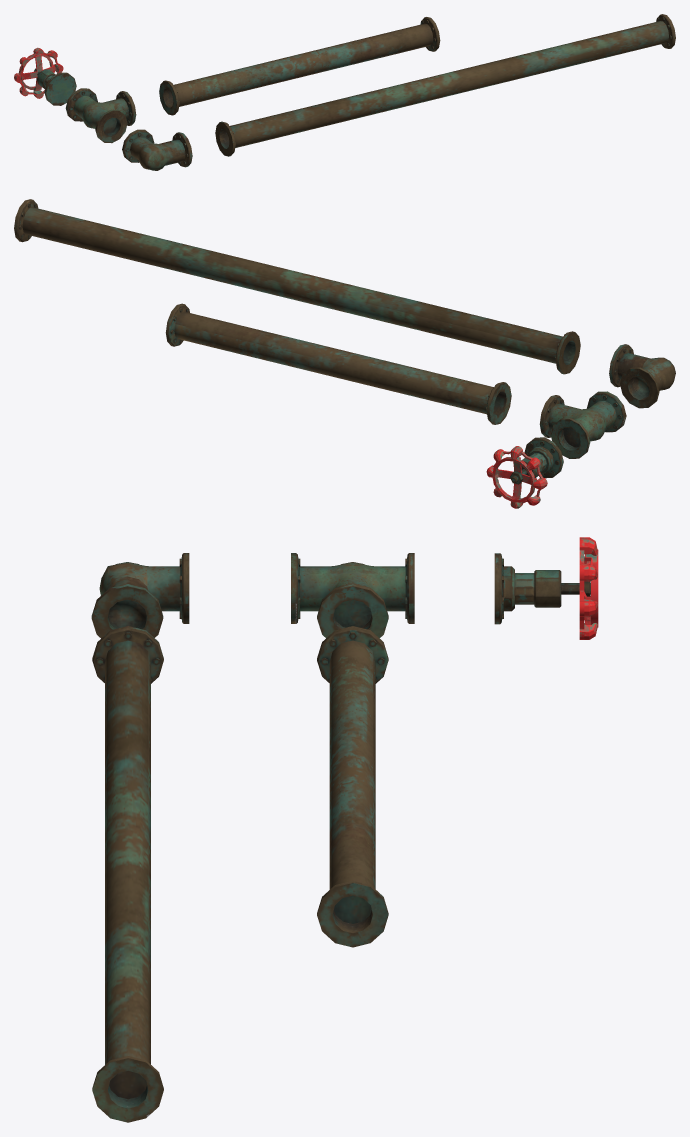
File: SM_pipe.fbx
The picture shows the model from 3 angles, top to bottom: view 1: azimuth 30°, elevation 25°; view 2: azimuth 150°, elevation 25°; view 3: azimuth 270°, elevation 25°; orthographic projection. The views are drawn at different scales.
Parts seen in each view (by area): view 1: SM_pipe_d, SM_pipe_b, SM_pipe_a, SM_pipe_c, SM_pipe_valve_a, SM_pipe_valve_b, SM_pipe_valve_c; view 2: SM_pipe_d, SM_pipe_b, SM_pipe_a, SM_pipe_c, SM_pipe_valve_a, SM_pipe_valve_c, SM_pipe_valve_b; view 3: SM_pipe_d, SM_pipe_b, SM_pipe_a, SM_pipe_c, SM_pipe_valve_a, SM_pipe_valve_b.
Boxes of the visible parts, x1,y1,x2,y2 form: SM_pipe_d: (215,14,675,156); SM_pipe_b: (159,17,440,115); SM_pipe_a: (65,88,136,143); SM_pipe_c: (122,129,192,170); SM_pipe_valve_a: (37,69,76,105); SM_pipe_valve_b: (14,47,63,98); SM_pipe_valve_c: (19,54,55,90); SM_pipe_d: (14,199,580,374); SM_pipe_b: (165,303,511,424); SM_pipe_a: (539,391,626,458); SM_pipe_c: (609,344,675,408); SM_pipe_valve_a: (511,437,563,482); SM_pipe_valve_c: (492,457,537,502); SM_pipe_valve_b: (486,446,547,508); SM_pipe_d: (92,626,163,1122); SM_pipe_b: (317,626,388,947); SM_pipe_a: (291,553,414,638); SM_pipe_c: (91,553,189,638); SM_pipe_valve_a: (494,553,590,624); SM_pipe_valve_b: (579,537,597,639).
Size of the model in its own units: 11.28 by 0.9887 by 4.6.
1 material, 1 textured.
